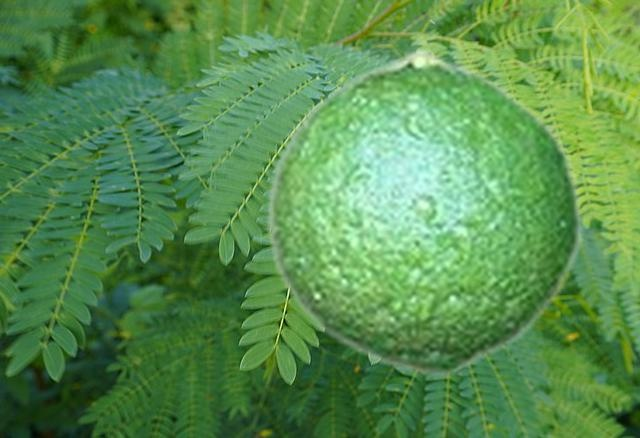dalandan: (263, 47, 583, 377)
